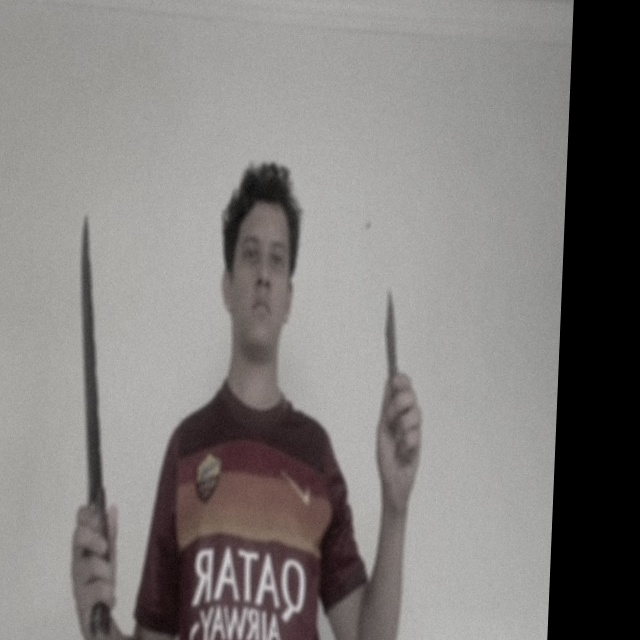Sharp-Object: (69, 213, 114, 501), (383, 290, 400, 364)
